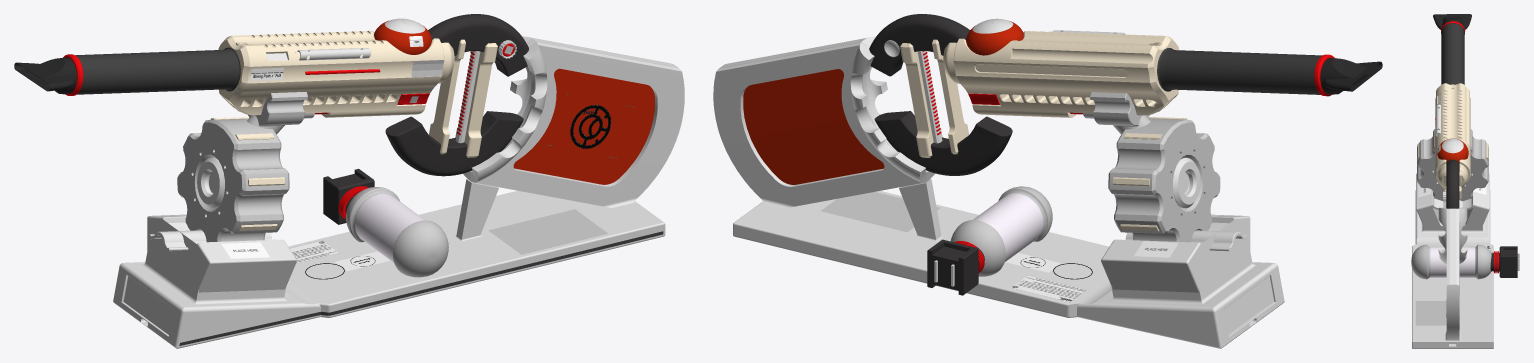
3 renders of one model, left to right at view 1: azimuth 30°, elevation 25°; view 2: azimuth 150°, elevation 25°; view 3: azimuth 270°, elevation 25°, orthographic. The views are drawn at different scales.
Visible parts, largest first — view 1: Solid_343.002, Solid_286, MAG.002, VisualModel_Solid_1171.001, Solid_108.003, Solid_108.002, History1.001, Plane.002, Extruded.001, hairdryer_body.002, Extruded.007, Solid_287.001 (+8 smaller); view 2: Solid_343.002, Solid_286, MAG.002, VisualModel_Solid_1171.001, Solid_108.003, Solid_108.002, History1.001, Solid_287.001, Extruded.001, hairdryer_body.002, Extruded.007, MAG.001 (+5 smaller); view 3: Solid_343.002, Solid_286, MAG.002, VisualModel_Solid_1171.001, History1.001, Solid_287.001, Solid_108.002, hairdryer_body.002, Ball_Bottom, Ball_Top, Hintre2.005, Face_sheet.005 (+1 smaller).
Boxes of the visible parts, bbox=[...] form: Solid_343.002: bbox=[113, 36, 684, 348]; Solid_286: bbox=[75, 30, 454, 117]; MAG.002: bbox=[177, 92, 307, 242]; VisualModel_Solid_1171.001: bbox=[346, 187, 448, 277]; Solid_108.003: bbox=[385, 111, 523, 176]; Solid_108.002: bbox=[428, 14, 528, 76]; History1.001: bbox=[488, 209, 607, 254]; Plane.002: bbox=[179, 231, 663, 345]; Extruded.001: bbox=[455, 43, 497, 157]; hairdryer_body.002: bbox=[14, 57, 76, 94]; Extruded.007: bbox=[429, 39, 465, 154]; Solid_287.001: bbox=[323, 168, 374, 224]; Solid_343.002: bbox=[713, 36, 1284, 348]; Solid_286: bbox=[943, 30, 1322, 117]; MAG.002: bbox=[1090, 92, 1220, 242]; VisualModel_Solid_1171.001: bbox=[950, 186, 1052, 276]; Solid_108.003: bbox=[874, 111, 1012, 175]; Solid_108.002: bbox=[869, 14, 969, 76]; History1.001: bbox=[820, 192, 940, 232]; Solid_287.001: bbox=[927, 239, 984, 295]; Extruded.001: bbox=[900, 43, 942, 157]; hairdryer_body.002: bbox=[1320, 58, 1382, 94]; Extruded.007: bbox=[932, 39, 968, 154]; MAG.001: bbox=[1173, 157, 1200, 208]; Solid_343.002: bbox=[1412, 173, 1493, 348]; Solid_286: bbox=[1435, 23, 1470, 188]; MAG.002: bbox=[1417, 129, 1488, 201]; VisualModel_Solid_1171.001: bbox=[1411, 244, 1491, 279]; History1.001: bbox=[1415, 301, 1446, 325]; Solid_287.001: bbox=[1490, 246, 1517, 277]; Solid_108.002: bbox=[1446, 159, 1459, 208]; hairdryer_body.002: bbox=[1433, 14, 1471, 29]; Ball_Bottom: bbox=[1437, 138, 1468, 163]; Ball_Top: bbox=[1442, 138, 1463, 153]; Hintre2.005: bbox=[1418, 183, 1431, 197]; Face_sheet.005: bbox=[1494, 251, 1498, 273].
Bounding box in the file's own units: 2126 × 911 × 528.
